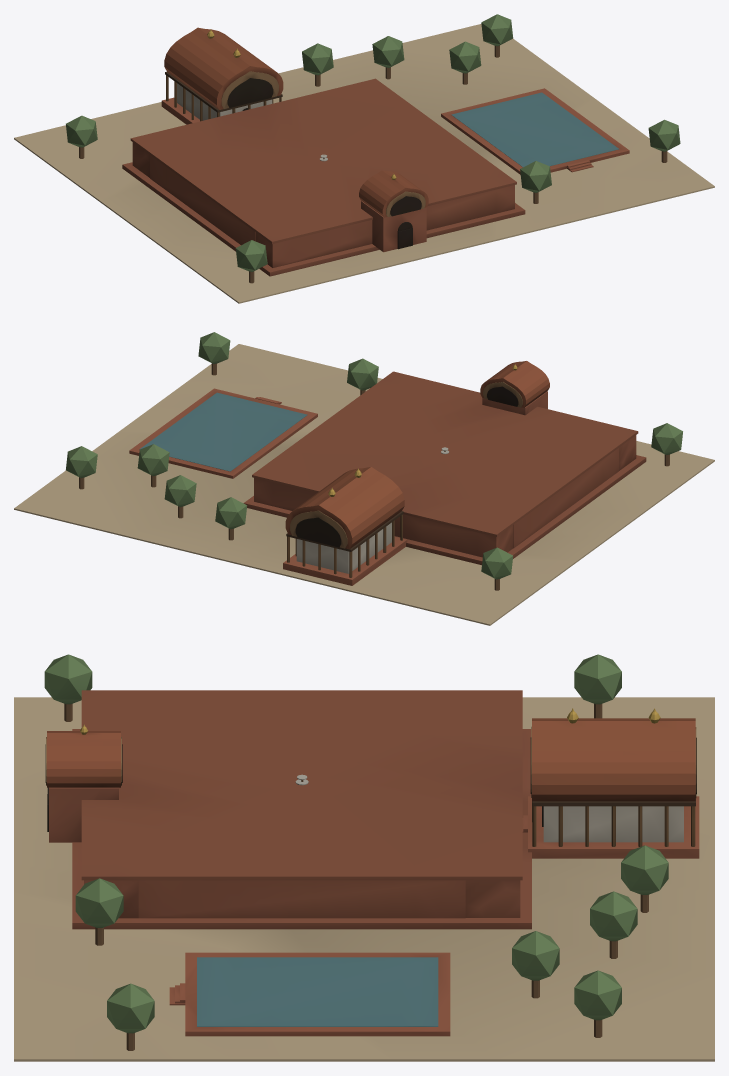
File: kukkutarama.glb
3 views of the same model, one above another, from view 1: azimuth 30°, elevation 25°; view 2: azimuth 150°, elevation 25°; view 3: azimuth 270°, elevation 25° (orthographic). The views are drawn at different scales.
Parts seen in each view (by area): view 1: p1_monastery, p0_monastery, p3_tank and grove, p2_stupa and shrine; view 2: p1_monastery, p0_monastery, p3_tank and grove, p2_stupa and shrine; view 3: p1_monastery, p0_monastery, p3_tank and grove, p2_stupa and shrine.
Boxes of the visible parts, x1=… form: p1_monastery: x1=122, y1=78, x2=525, y2=276; p0_monastery: x1=14, y1=24, x2=714, y2=303; p3_tank and grove: x1=66, y1=14, x2=680, y2=283; p2_stupa and shrine: x1=161, y1=27, x2=327, y2=161; p1_monastery: x1=243, y1=361, x2=646, y2=565; p0_monastery: x1=14, y1=344, x2=714, y2=625; p3_tank and grove: x1=66, y1=332, x2=682, y2=590; p2_stupa and shrine: x1=283, y1=447, x2=449, y2=585; p1_monastery: x1=45, y1=690, x2=531, y2=929; p0_monastery: x1=14, y1=697, x2=714, y2=1061; p3_tank and grove: x1=44, y1=654, x2=668, y2=1050; p2_stupa and shrine: x1=295, y1=708, x2=699, y2=858.
Bounding box in the file's own units: 110 × 17.93 × 90.
